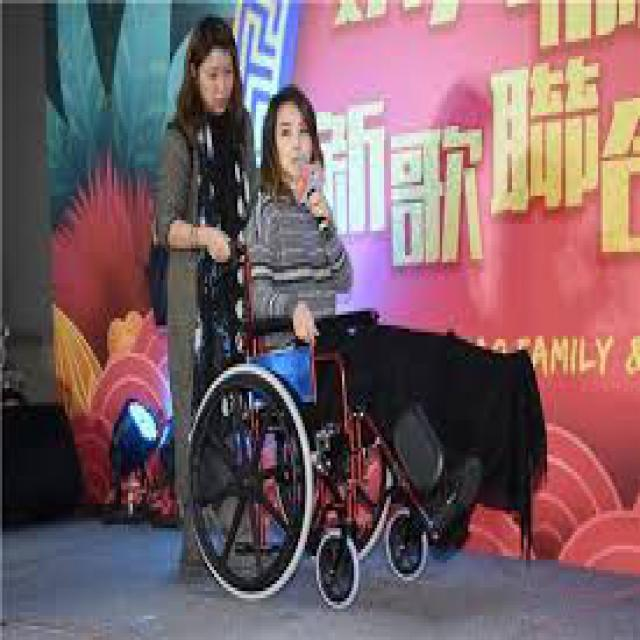wheelchairs: (175, 234, 452, 608)
